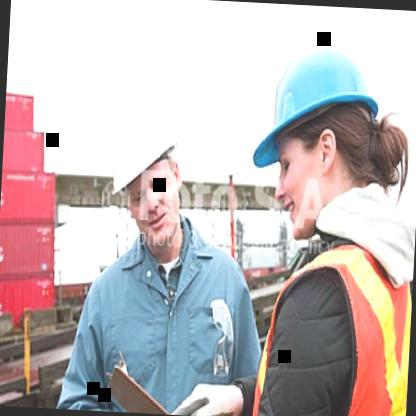helmet: (241, 32, 403, 238), (94, 96, 198, 247)
